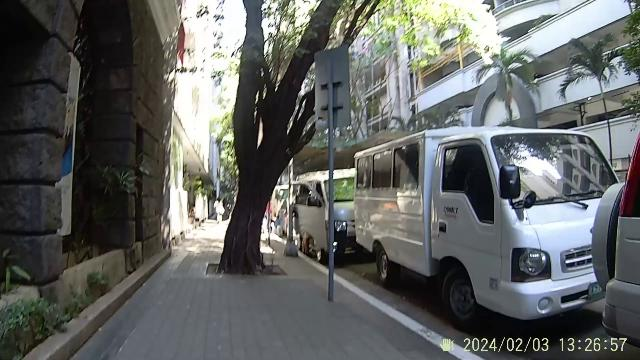street_sign: (312, 41, 352, 284)
tree: (210, 35, 274, 278)
